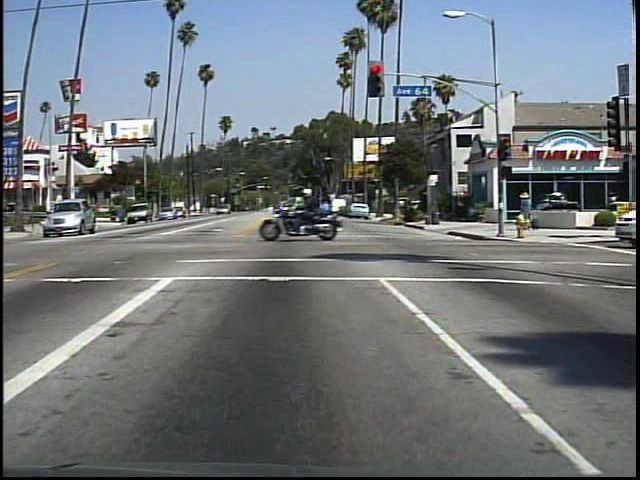person: (299, 186, 333, 238), (515, 186, 539, 220)
